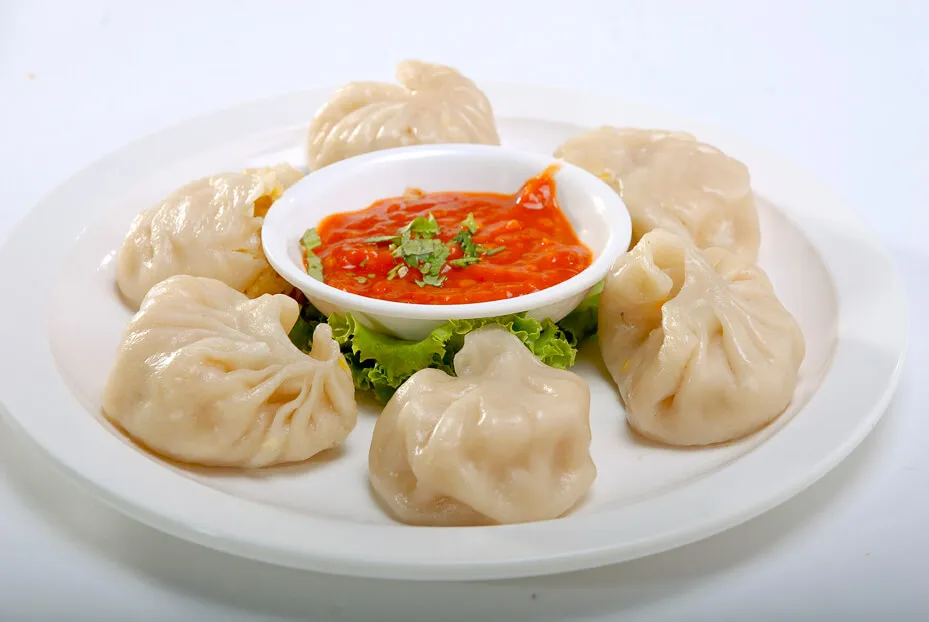momo: (97, 274, 356, 469), (370, 327, 599, 530), (601, 233, 806, 451), (551, 117, 766, 261), (113, 163, 310, 317), (307, 57, 499, 186)
